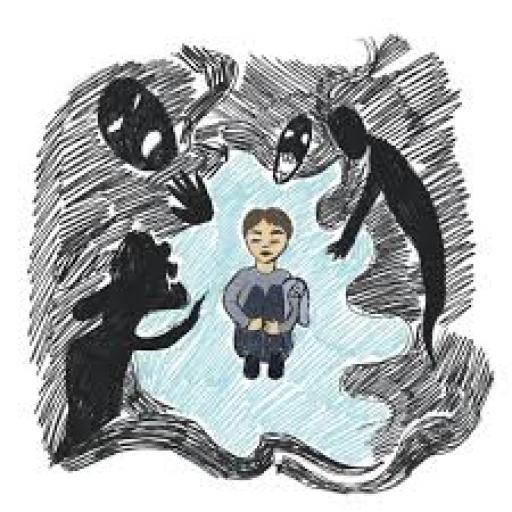person: (320, 101, 463, 381), (50, 224, 207, 458), (212, 199, 331, 396)
